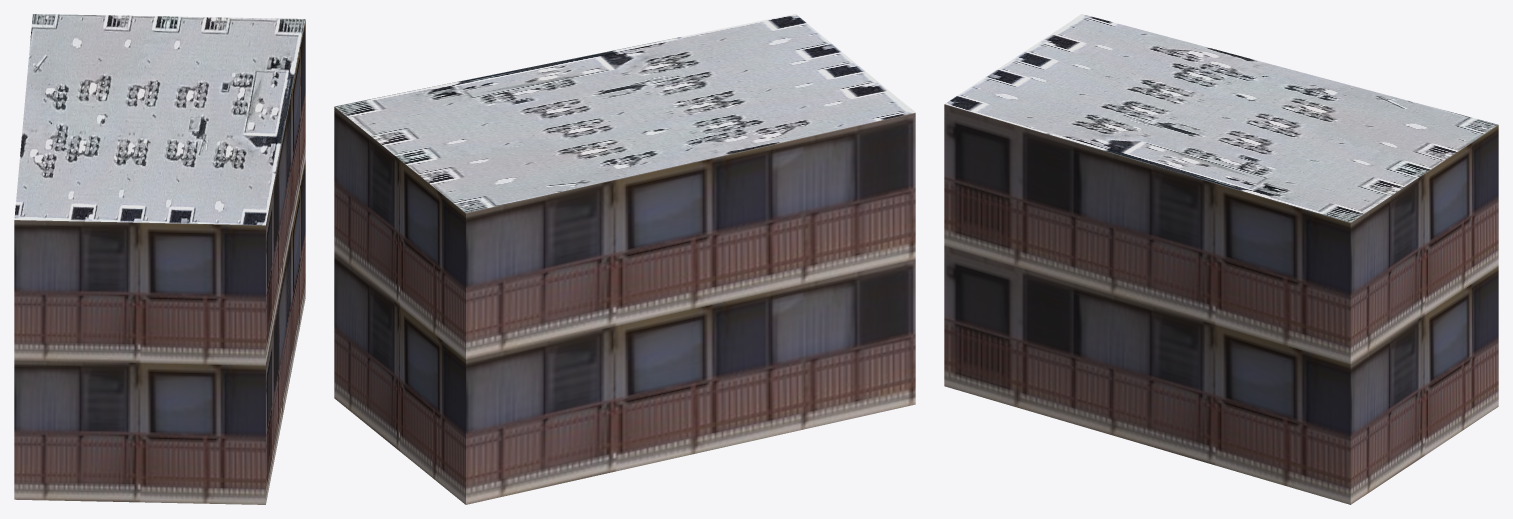
Rendered from ResTex__1094.fbx.
3 views of the same model, side by side, from view 1: azimuth 30°, elevation 25°; view 2: azimuth 150°, elevation 25°; view 3: azimuth 270°, elevation 25° (orthographic). The views are drawn at different scales.
Visible parts, largest first — view 1: CityEngineMaterial_6_m, CityEngineMaterial_8_m; view 2: CityEngineMaterial_6_m, CityEngineMaterial_8_m; view 3: CityEngineMaterial_6_m, CityEngineMaterial_8_m.
Boxes of the visible parts, left/top/right/bottom form: CityEngineMaterial_6_m: left=14, top=19, right=305, bottom=504; CityEngineMaterial_8_m: left=14, top=14, right=305, bottom=225; CityEngineMaterial_6_m: left=334, top=107, right=915, bottom=504; CityEngineMaterial_8_m: left=334, top=14, right=915, bottom=212; CityEngineMaterial_6_m: left=944, top=104, right=1498, bottom=504; CityEngineMaterial_8_m: left=944, top=14, right=1497, bottom=222.
Size of the model in its own units: 9.53 by 6 by 10.68.
Materials: 2 (2 with a texture image).
